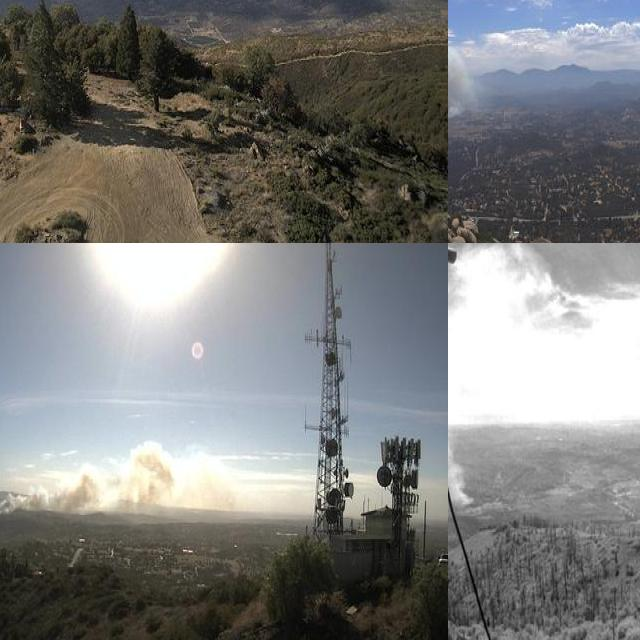smoke: (0, 434, 232, 516), (448, 405, 475, 511), (448, 39, 479, 126)
